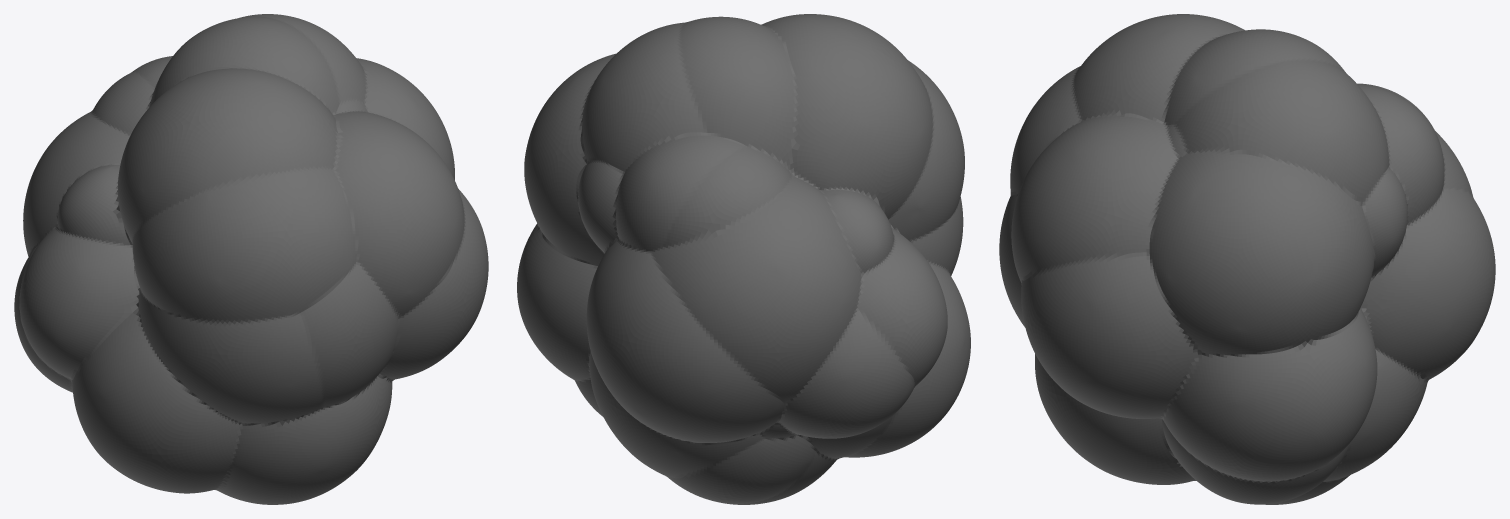
Rendered from Smoke-Failure.fbx.
The picture shows the model from 3 angles, left to right: view 1: azimuth 30°, elevation 25°; view 2: azimuth 150°, elevation 25°; view 3: azimuth 270°, elevation 25°; orthographic projection. The views are drawn at different scales.
Parts seen in each view (by area): view 1: Icosphere; view 2: Icosphere; view 3: Icosphere.
Boxes of the visible parts, x1=… form: Icosphere: x1=14, y1=14, x2=488, y2=504; Icosphere: x1=517, y1=14, x2=970, y2=504; Icosphere: x1=999, y1=14, x2=1495, y2=504.
Bounding box in the file's own units: 223 × 238 × 229.
